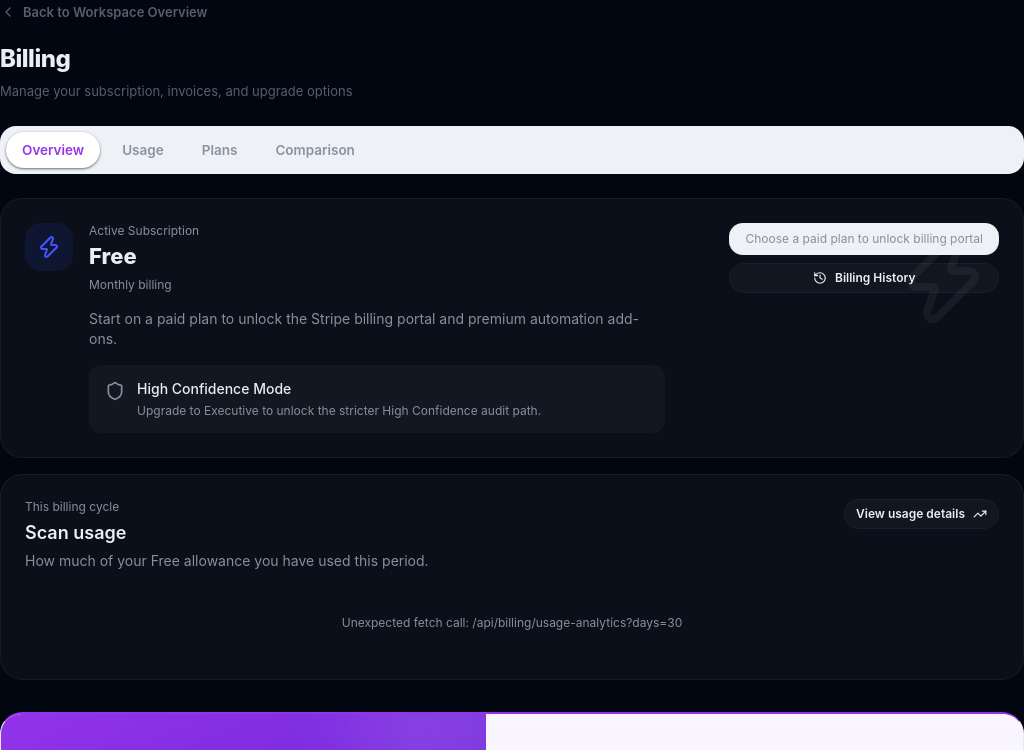
it: BillingPage › disables checkout for plans that are not configured in the current billing environment
Check: the text "Choose a paid plan to unlock billing portal" is shown, box top-left (730, 222), bottom-right (999, 254)
Click the tab "Plans" at (220, 150), box top-left (186, 132), bottom-right (253, 168)
(page scrolled)
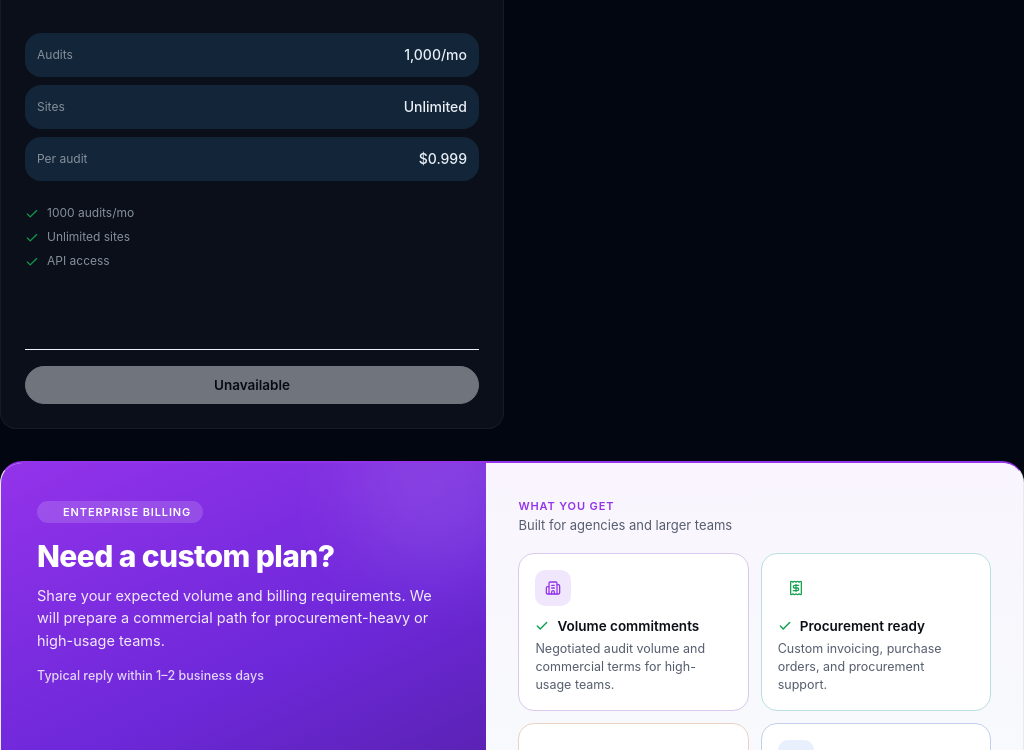
Check: the button "Unavailable" is disabled, box top-left (25, 366), bottom-right (479, 404)
